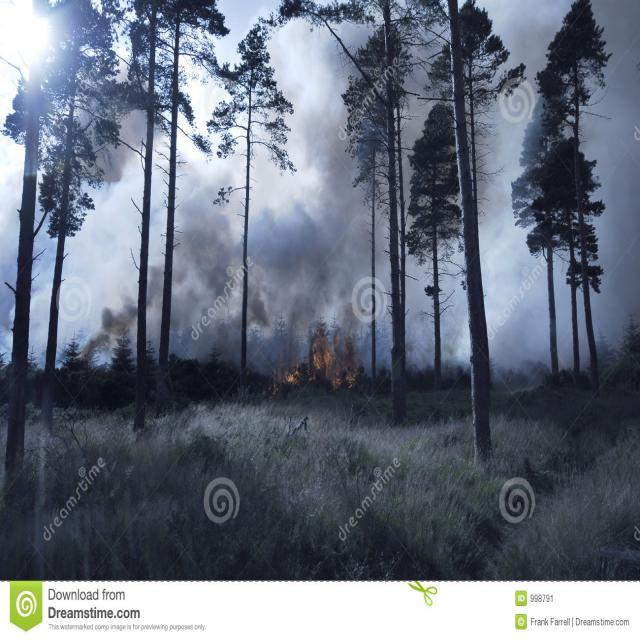Fire: (287, 324, 373, 397)
Smoke: (137, 51, 451, 339)
